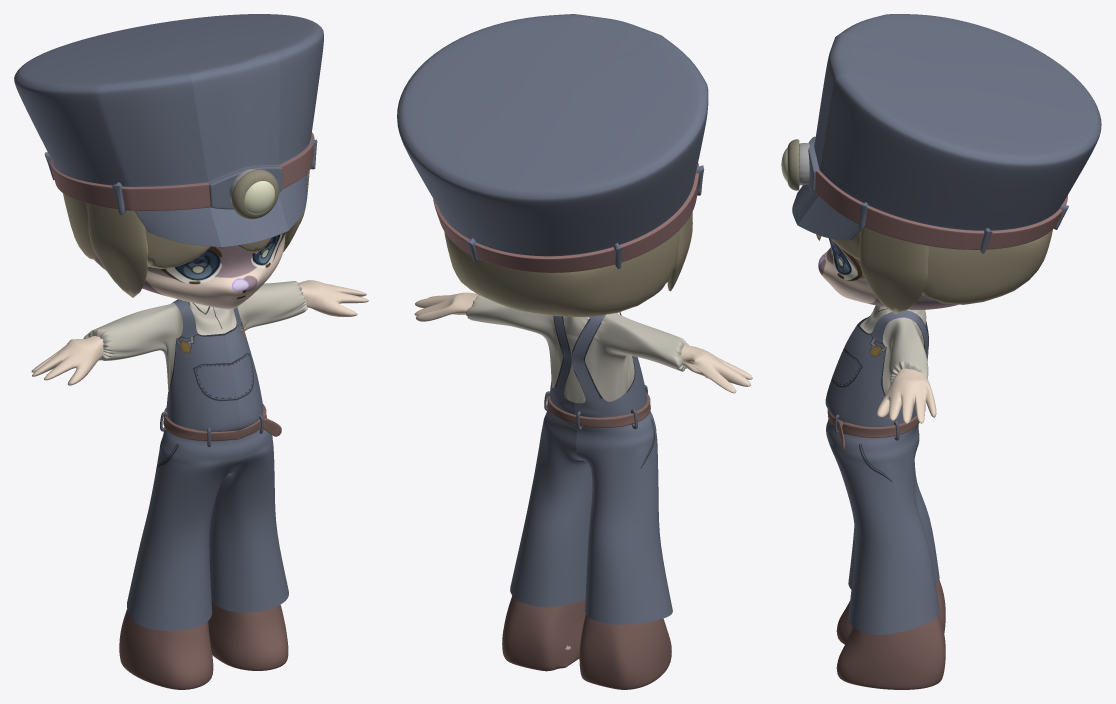
File: Busters_karikansei_3.fbx
3 views of the same model, side by side, from view 1: azimuth 30°, elevation 25°; view 2: azimuth 150°, elevation 25°; view 3: azimuth 270°, elevation 25° (orthographic). The views are drawn at different scales.
Visible parts, largest first — view 1: character_hat1:polySurface27, chara03:pPlane8, character_cloth:polySurface20, pSphere11, chara03:polySurface10, polySurface2, polySurface1, chara04:body, chara04:polySurface19, character_hat1:pPipe1, character_hat1:pSphere1; view 2: character_hat1:polySurface27, chara03:pPlane8, pSphere11, character_cloth:polySurface20, polySurface2, polySurface1, chara04:body, chara04:polySurface19; view 3: character_hat1:polySurface27, chara03:pPlane8, pSphere11, polySurface1, character_cloth:polySurface20, chara03:polySurface10, chara04:body, chara04:polySurface19, polySurface2, character_hat1:pPipe1.
Part boxes in pixels (x1,y1,x2,y2): character_hat1:polySurface27: (14, 14, 323, 247); chara03:pPlane8: (127, 299, 288, 630); character_cloth:polySurface20: (83, 281, 307, 392); pSphere11: (63, 171, 309, 297); chara03:polySurface10: (94, 232, 285, 310); polySurface2: (119, 609, 213, 689); polySurface1: (208, 602, 288, 670); chara04:body: (31, 280, 368, 385); chara04:polySurface19: (163, 404, 281, 441); character_hat1:pPipe1: (232, 169, 278, 219); character_hat1:pSphere1: (244, 181, 274, 214); character_hat1:polySurface27: (397, 14, 708, 272); chara03:pPlane8: (510, 312, 672, 624); pSphere11: (444, 212, 692, 316); character_cloth:polySurface20: (466, 295, 688, 403); polySurface2: (579, 614, 671, 689); polySurface1: (502, 595, 585, 671); chara04:body: (414, 292, 752, 649); chara04:polySurface19: (547, 392, 650, 428); character_hat1:polySurface27: (792, 14, 1101, 249); chara03:pPlane8: (825, 305, 939, 634); pSphere11: (816, 227, 1052, 314); polySurface1: (836, 615, 945, 689); character_cloth:polySurface20: (859, 305, 928, 394); chara03:polySurface10: (818, 238, 957, 309); chara04:body: (876, 368, 936, 423); chara04:polySurface19: (827, 409, 919, 452); polySurface2: (836, 580, 945, 644); character_hat1:pPipe1: (787, 139, 799, 190).
Size of the model in its own units: 2.03 by 3.57 by 1.72.
11 materials, 4 textured.
